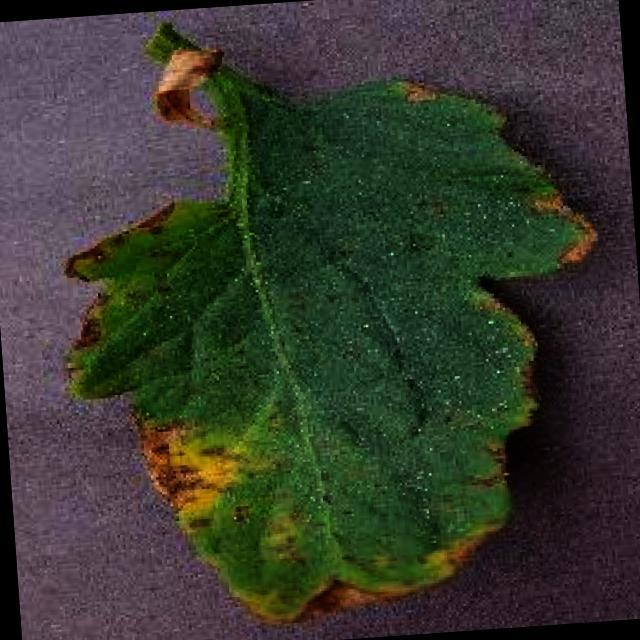Tomato bacterial spot leaf: (43, 50, 637, 640)
